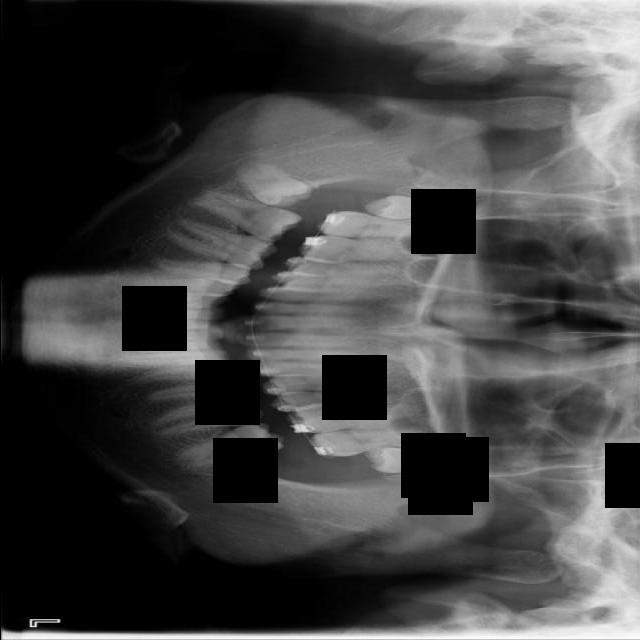3M ESPE Implant: (363, 196, 459, 220)
73: (48, 616, 62, 622)
BioHorizons Implant: (310, 429, 426, 457)
BioLife Implant: (363, 446, 461, 476)
Blue Sky Bio Implant: (173, 418, 285, 472)
Caries: (316, 210, 438, 240)
Implant: (186, 186, 303, 248)
Keystone Dental Implant: (228, 152, 313, 221)
